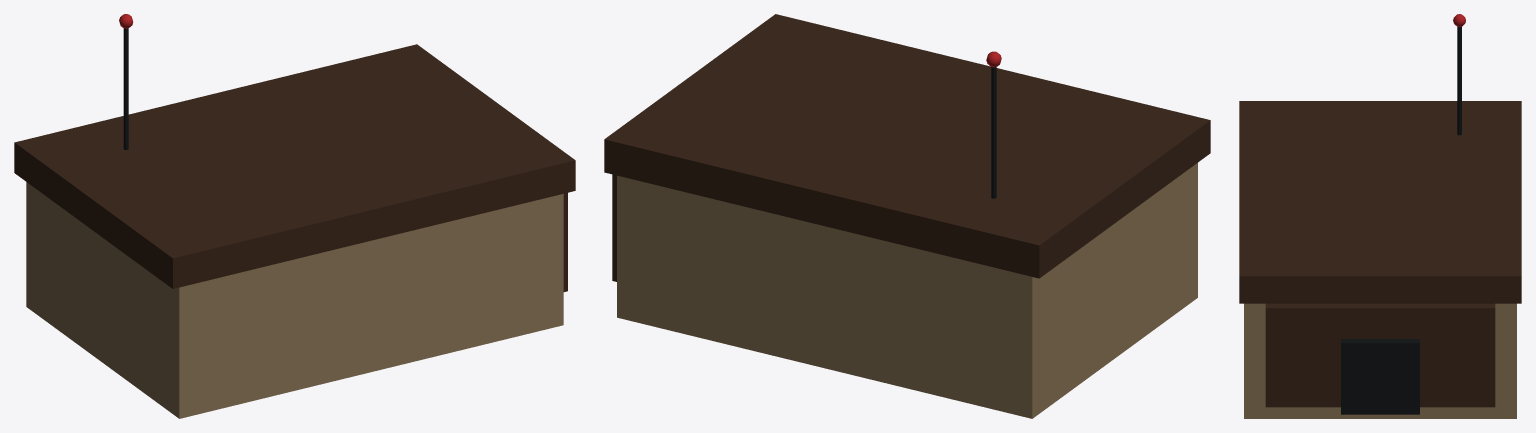
Rendered from toc-bunker.glb.
The picture shows the model from 3 angles, left to right: view 1: azimuth 30°, elevation 25°; view 2: azimuth 150°, elevation 25°; view 3: azimuth 270°, elevation 25°; orthographic projection. The views are drawn at different scales.
Visible parts, largest first — view 1: roofLogs, earthShell, tocAntenna; view 2: roofLogs, earthShell, tocAntenna; view 3: roofLogs, timberFace, earthShell, entrance, tocAntenna.
Part boxes in pixels (bbox=[...]): roofLogs: bbox=[14, 44, 575, 288]; earthShell: bbox=[26, 182, 563, 418]; tocAntenna: bbox=[123, 28, 128, 149]; roofLogs: bbox=[604, 14, 1210, 278]; earthShell: bbox=[617, 163, 1197, 418]; tocAntenna: bbox=[991, 67, 996, 198]; roofLogs: bbox=[1239, 101, 1521, 303]; timberFace: bbox=[1265, 303, 1495, 407]; earthShell: bbox=[1244, 303, 1516, 418]; entrance: bbox=[1341, 339, 1419, 414]; tocAntenna: bbox=[1457, 26, 1461, 135].
Bounding box in the file's own units: 2.29 × 1.56 × 1.5.
